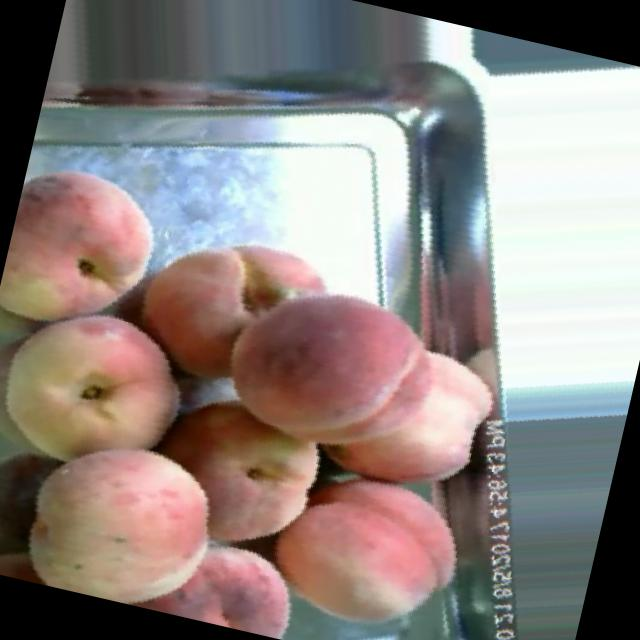Fruit: (182, 234, 540, 510), (103, 188, 353, 426), (0, 391, 255, 624), (0, 265, 223, 512), (233, 453, 491, 640), (0, 140, 190, 369)
